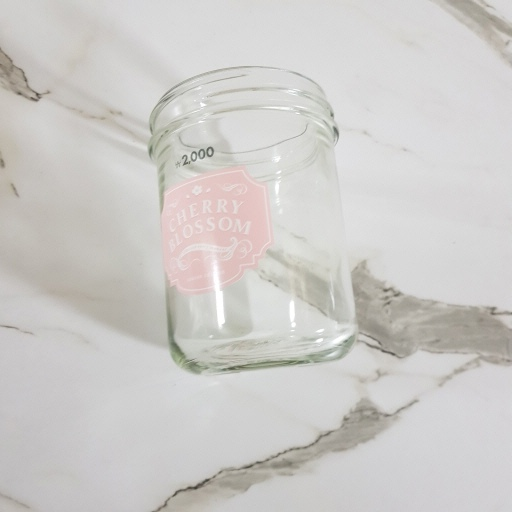Glass_5: (140, 64, 361, 371)
